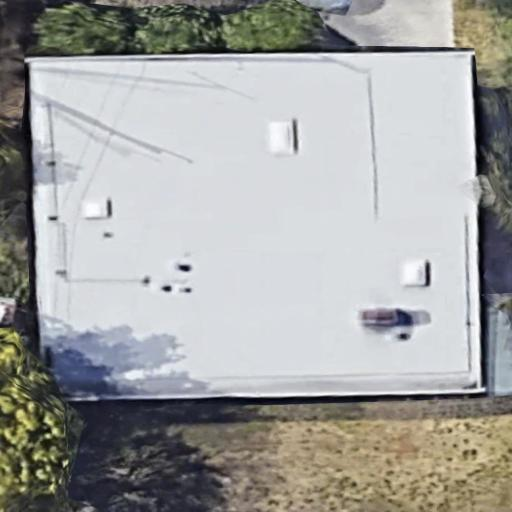Flat Roof: (24, 48, 483, 397)
